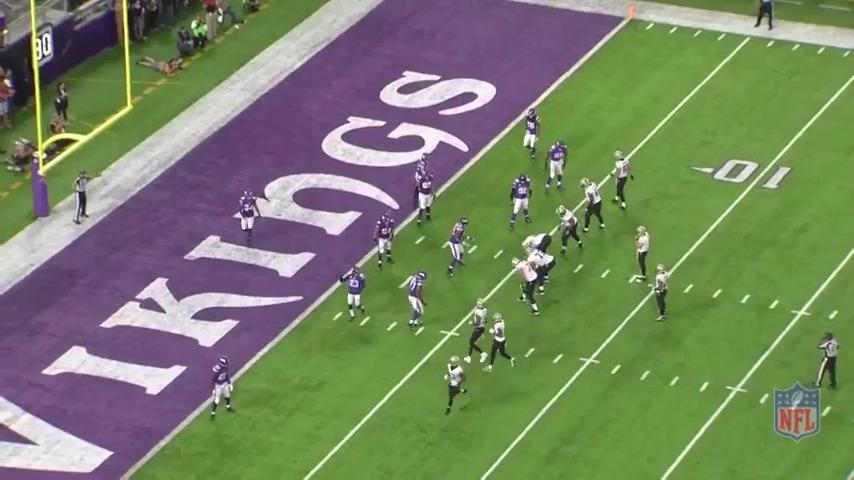defense: (206, 354, 236, 421), (445, 217, 476, 281), (398, 268, 429, 330), (504, 175, 532, 231), (345, 261, 371, 320), (239, 187, 265, 245), (414, 171, 440, 227), (373, 214, 399, 269), (546, 139, 570, 193), (521, 106, 544, 162), (412, 158, 431, 212)
oline: (512, 257, 545, 318), (526, 244, 557, 294), (580, 178, 607, 234), (556, 202, 585, 254), (523, 230, 556, 256)
qb: (634, 224, 654, 287)
ref: (817, 330, 843, 391), (72, 167, 97, 226), (750, 0, 778, 33)
skill: (483, 310, 514, 375), (463, 299, 491, 365), (443, 357, 471, 420), (614, 150, 638, 212), (653, 260, 672, 322)
